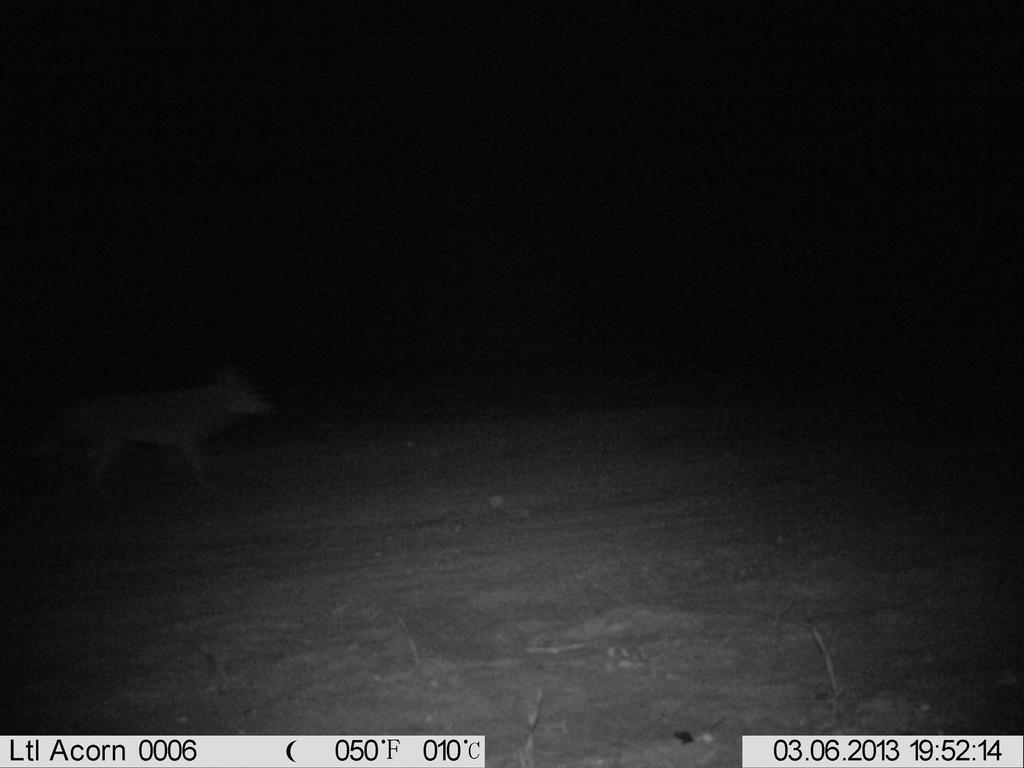coyote: (45, 363, 279, 506)
